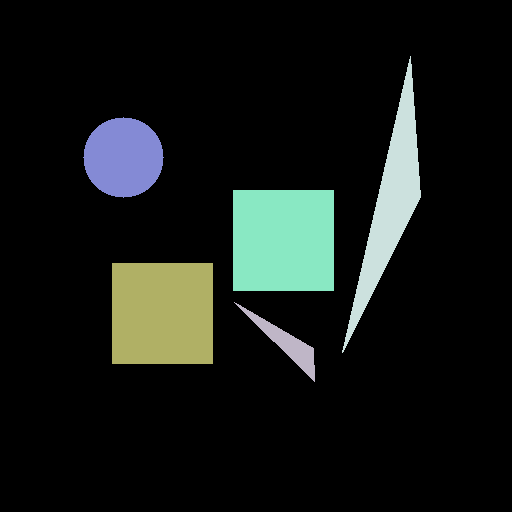circle: (83, 117, 163, 197)
square: (112, 263, 212, 363), (233, 190, 333, 290)
triangle: (342, 56, 420, 352), (234, 302, 314, 381)
